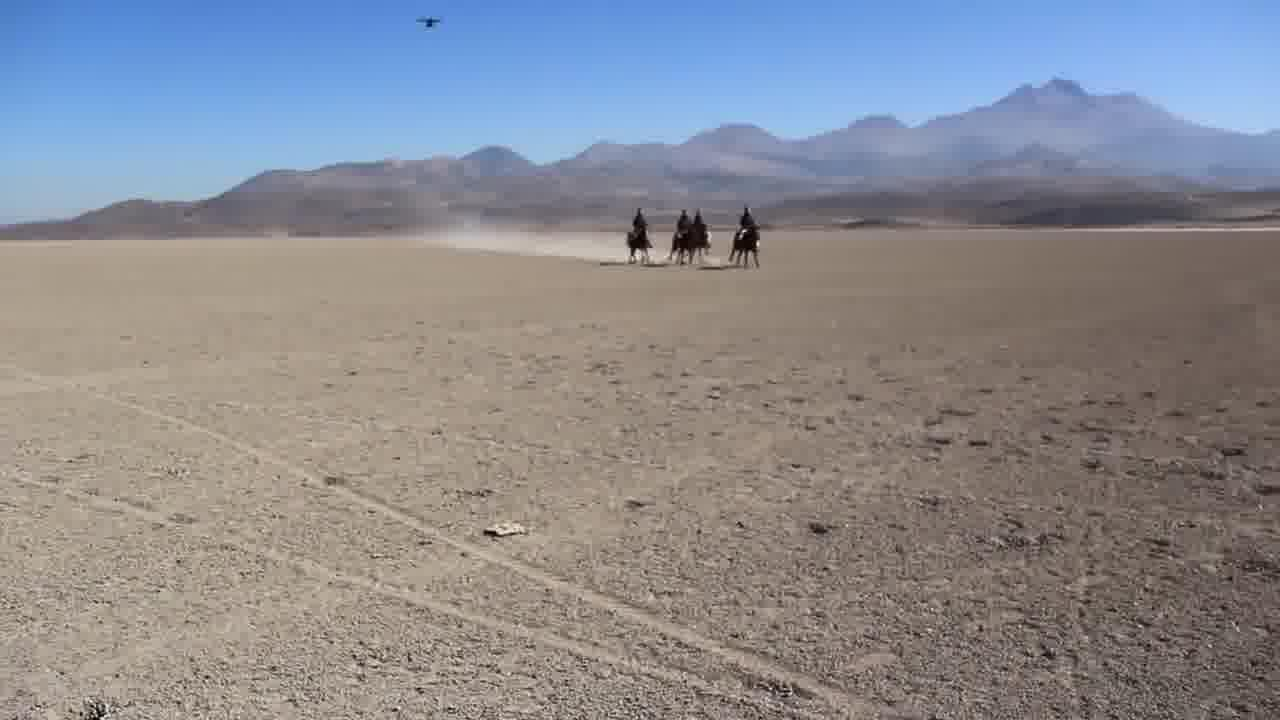drone: (411, 7, 448, 37)
